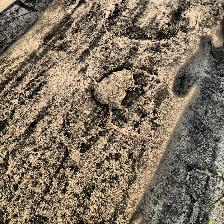pothole: (88, 66, 138, 110)
